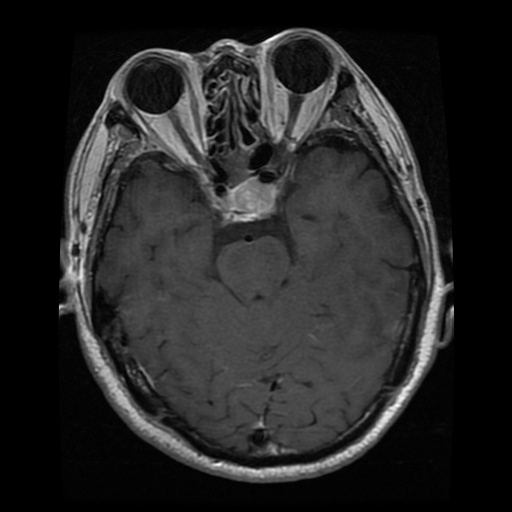pituitary: (225, 178, 275, 210)
